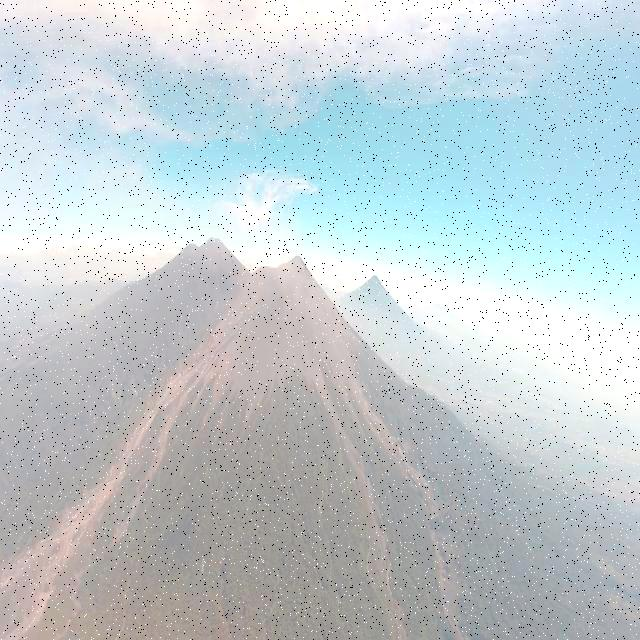Summit: (283, 255, 310, 272)
